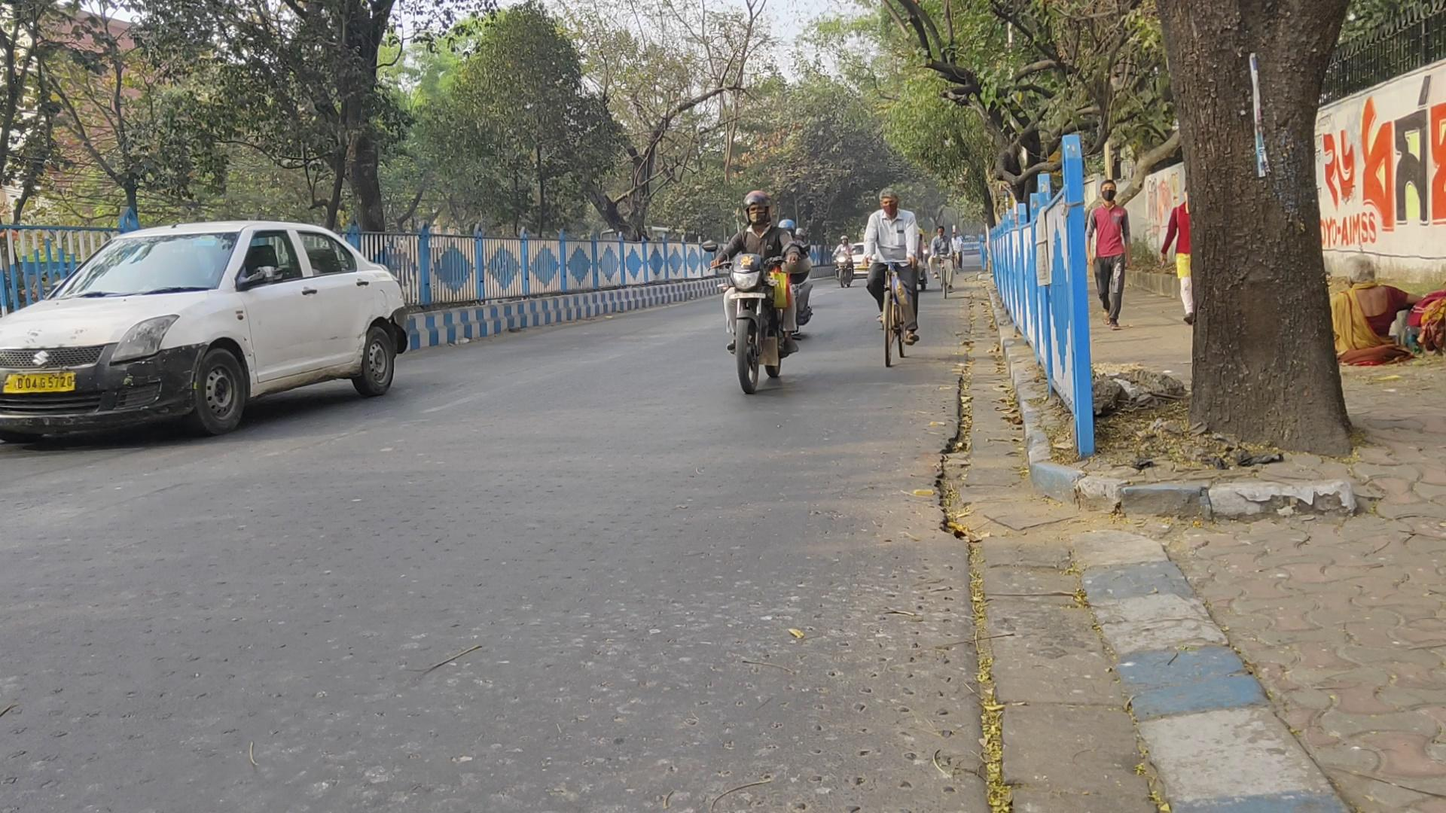bike: (703, 191, 794, 394), (862, 187, 921, 367), (928, 224, 953, 301), (832, 233, 853, 289)
car: (1, 220, 408, 445)
